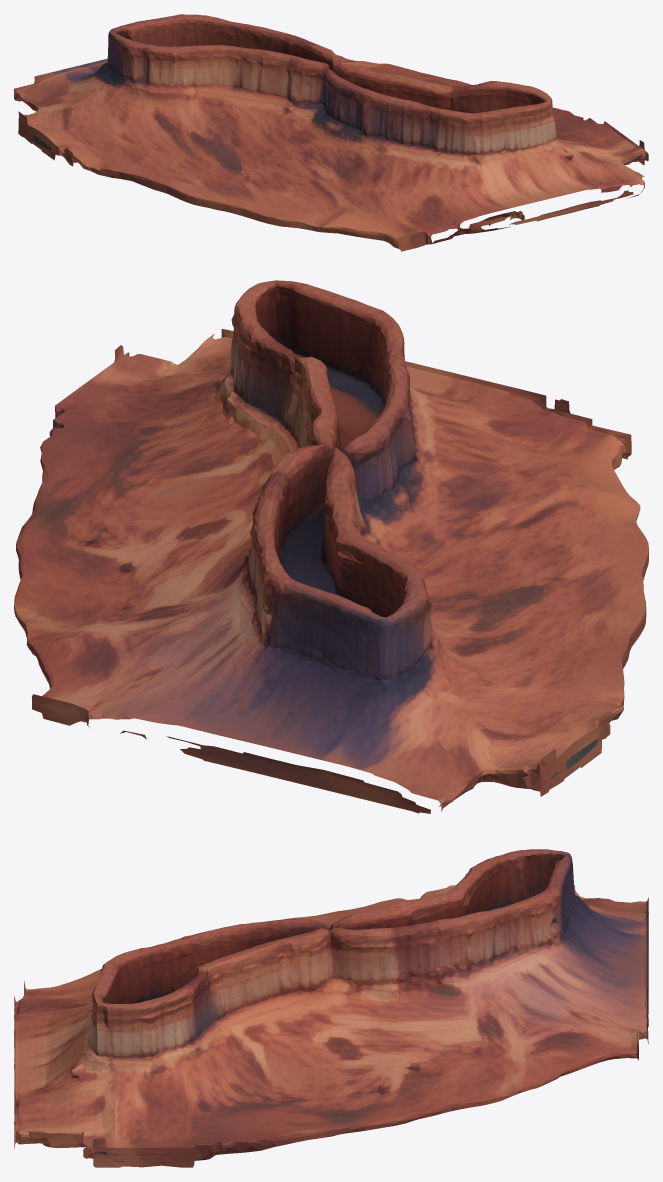
The model's file is Mountain2.glb.
3 renders of one model, top to bottom at view 1: azimuth 30°, elevation 25°; view 2: azimuth 150°, elevation 25°; view 3: azimuth 270°, elevation 25°, orthographic. The views are drawn at different scales.
Visible parts, largest first — view 1: world; view 2: world; view 3: world.
Part boxes in pixels (<box>): world: <box>14,14,648,251</box>; world: <box>14,280,648,813</box>; world: <box>14,849,648,1167</box>.
Bounding box in the file's own units: 1 × 0.191 × 1.
1 material, 1 textured.
